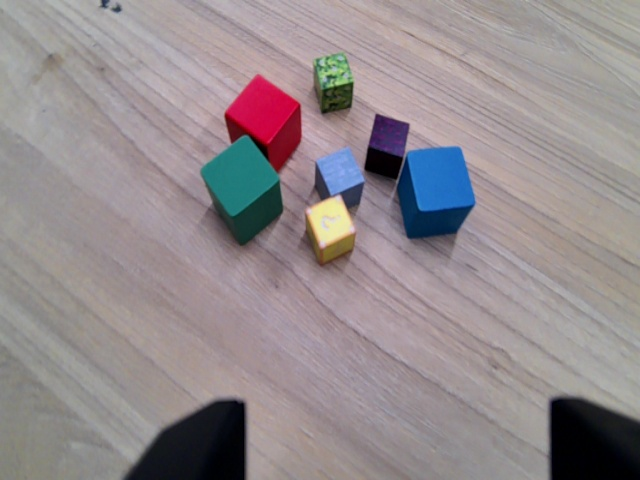brick: (370, 111, 404, 180)
grass: (313, 48, 356, 112)
lucky: (308, 191, 358, 257)
stone: (316, 144, 365, 198)
